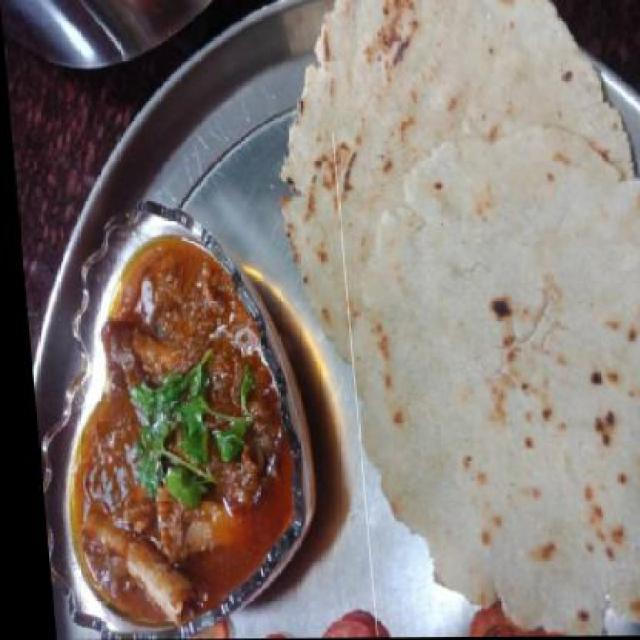chapati: (330, 131, 638, 638), (266, 0, 639, 348)
